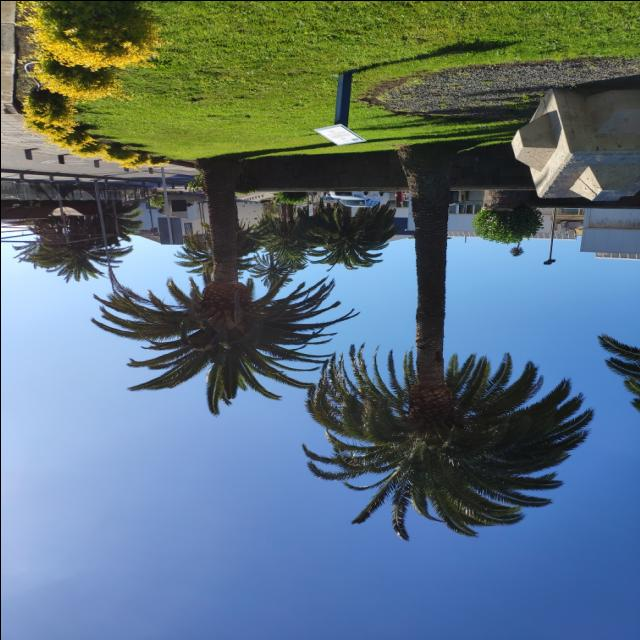Palm-Trees: (293, 144, 576, 536), (91, 162, 348, 414)
